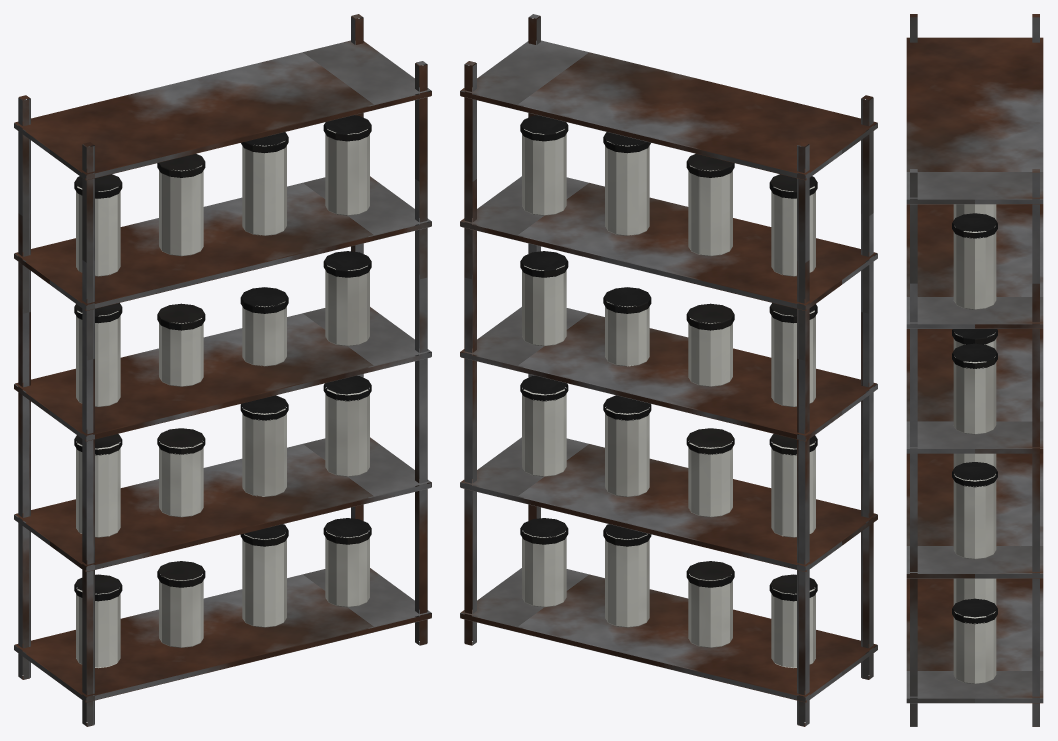
Rendered from Y09_specimen_shelf.glb.
3 renders of one model, left to right at view 1: azimuth 30°, elevation 25°; view 2: azimuth 150°, elevation 25°; view 3: azimuth 270°, elevation 25°, orthographic. The views are drawn at different scales.
Visible parts, largest first — view 1: Y09_specimen_shelf; view 2: Y09_specimen_shelf; view 3: Y09_specimen_shelf.
Part boxes in pixels (x1,y1,x2,y2): Y09_specimen_shelf: (14, 14, 431, 726); Y09_specimen_shelf: (460, 14, 877, 726); Y09_specimen_shelf: (906, 14, 1043, 726).
Bounding box in the file's own units: 1.25 × 2 × 0.45.
6 materials, 6 textured.
